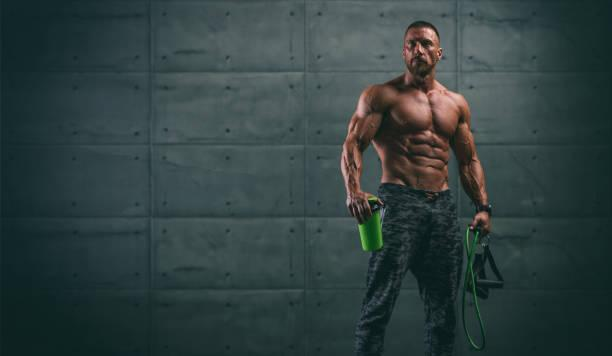no_helmet: (391, 89, 444, 112)
none: (344, 122, 490, 192)
